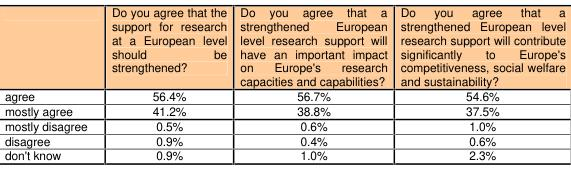table: (3, 3, 565, 163)
table column: (393, 3, 565, 163), (232, 3, 393, 163), (98, 3, 232, 163), (3, 3, 98, 163)
table column header: (3, 3, 565, 88)
table row: (3, 3, 565, 88), (3, 147, 565, 163), (3, 88, 565, 103), (3, 103, 565, 118), (3, 132, 565, 147), (3, 118, 565, 132)
